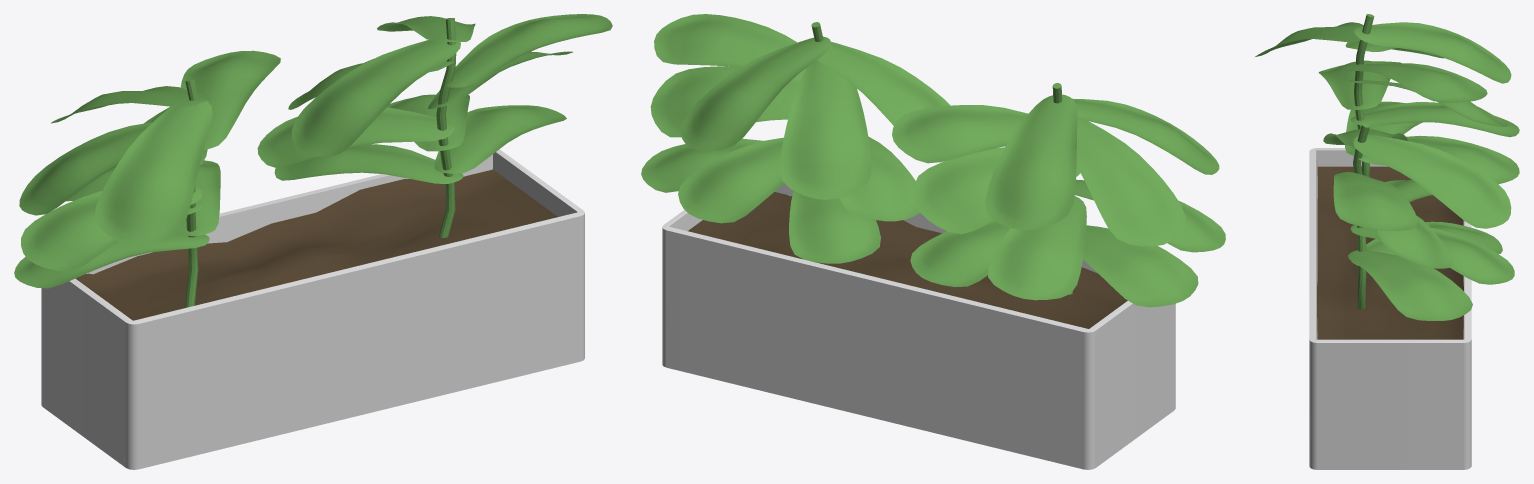
The model's file is rectangularPlant.fbx.
3 renders of one model, left to right at view 1: azimuth 30°, elevation 25°; view 2: azimuth 150°, elevation 25°; view 3: azimuth 270°, elevation 25°, orthographic. The views are drawn at different scales.
Visible parts, largest first — view 1: plantBox; view 2: plantBox; view 3: plantBox.
Boxes of the visible parts, <box> form: plantBox: <box>14,14,612,469</box>; plantBox: <box>641,14,1225,469</box>; plantBox: <box>1255,14,1519,469</box>.
Bounding box in the file's own units: 11.97 × 6.72 × 5.39.
